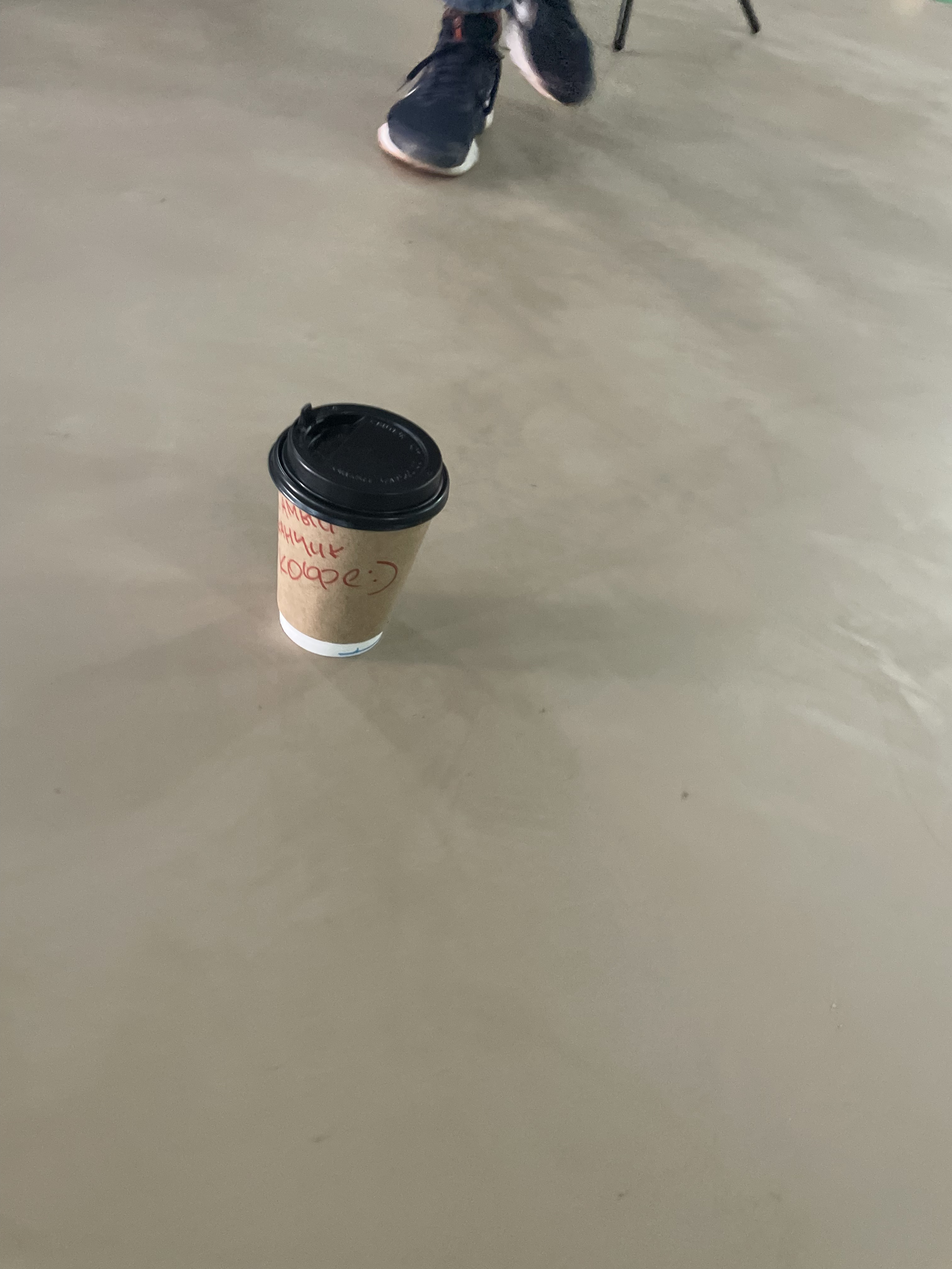cup: (267, 403, 450, 659)
